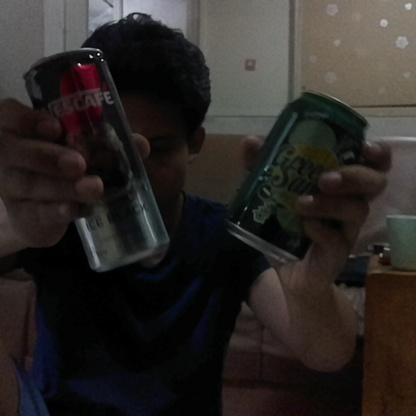alumunium_can: (23, 44, 171, 278), (219, 87, 371, 264)
